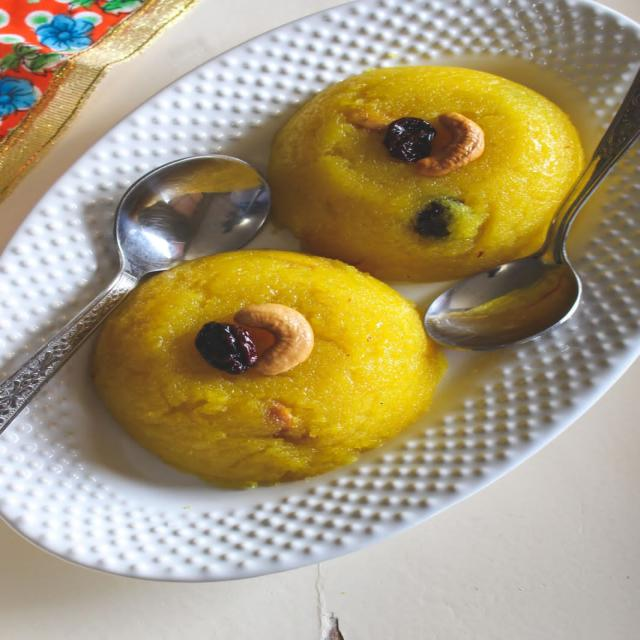kesari bath: (69, 236, 454, 499), (255, 54, 601, 302)
